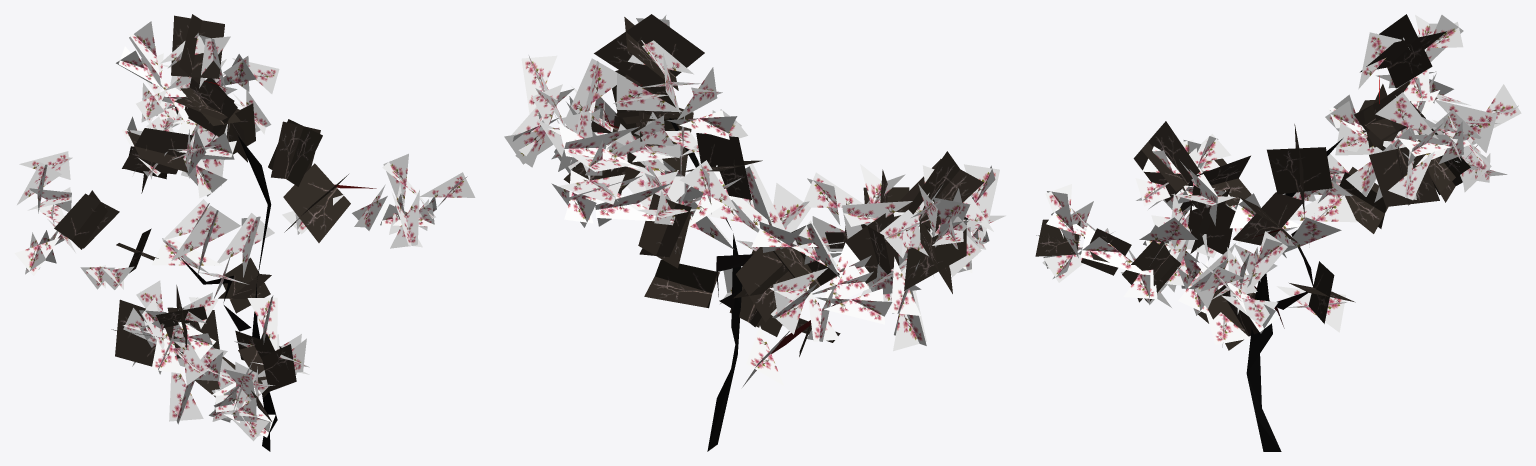
The model's file is sakura3 lod2.FBX.
3 views of the same model, side by side, from view 1: azimuth 30°, elevation 25°; view 2: azimuth 150°, elevation 25°; view 3: azimuth 270°, elevation 25° (orthographic). The views are drawn at different scales.
Visible parts, largest first — view 1: sakura3_LOD2; view 2: sakura3_LOD2; view 3: sakura3_LOD2.
Part boxes in pixels (x1=…): sakura3_LOD2: x1=14, y1=14, x2=475, y2=451; sakura3_LOD2: x1=504, y1=14, x2=1005, y2=451; sakura3_LOD2: x1=1035, y1=14, x2=1521, y2=451.
Bounding box in the file's own units: 109618 × 109991 × 112410.
